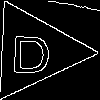D: (9, 26, 53, 74)
